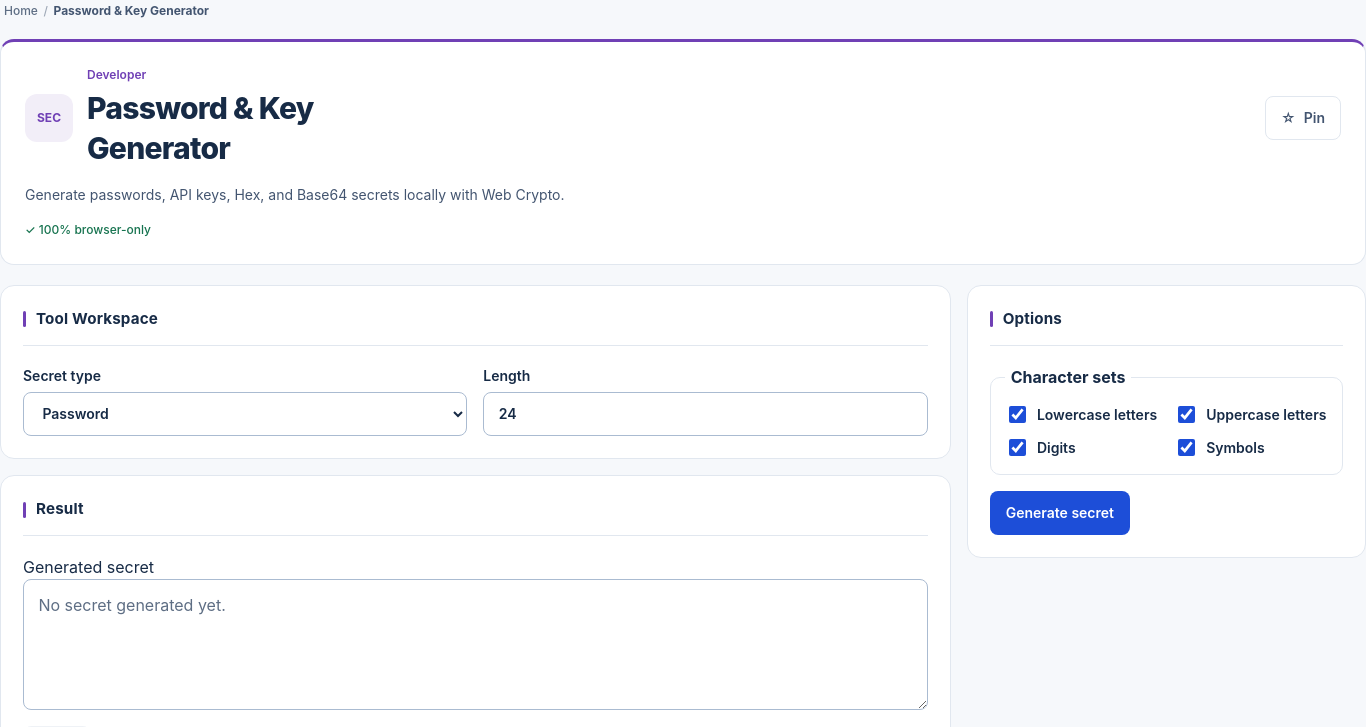
it: SecretGeneratorPage › normalizes password length when switching to the stricter API key mode
Step 1. Replace the text in the number field labelled "Length" with "8" → x=706, y=414, box [483,392,928,436]
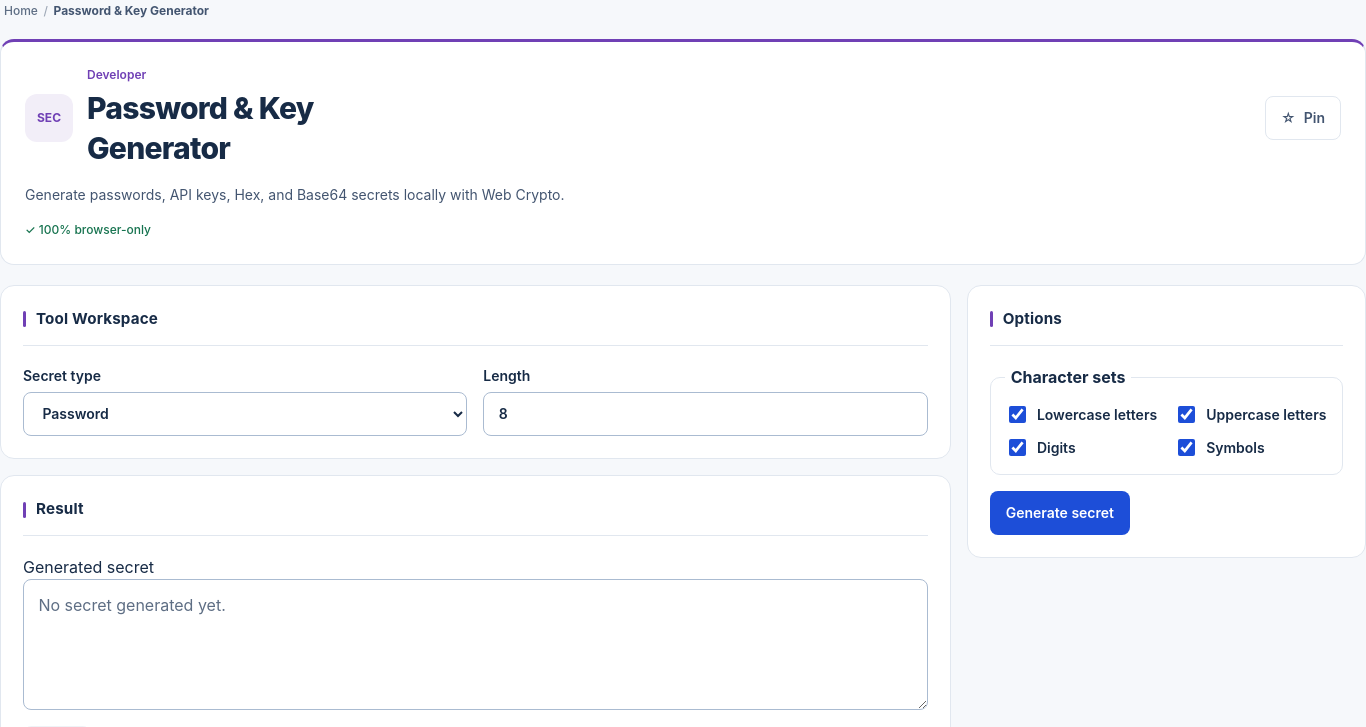
Step 2. Select "API key" in the dropdown labelled "Secret type" → x=245, y=414, box [23,392,467,436]
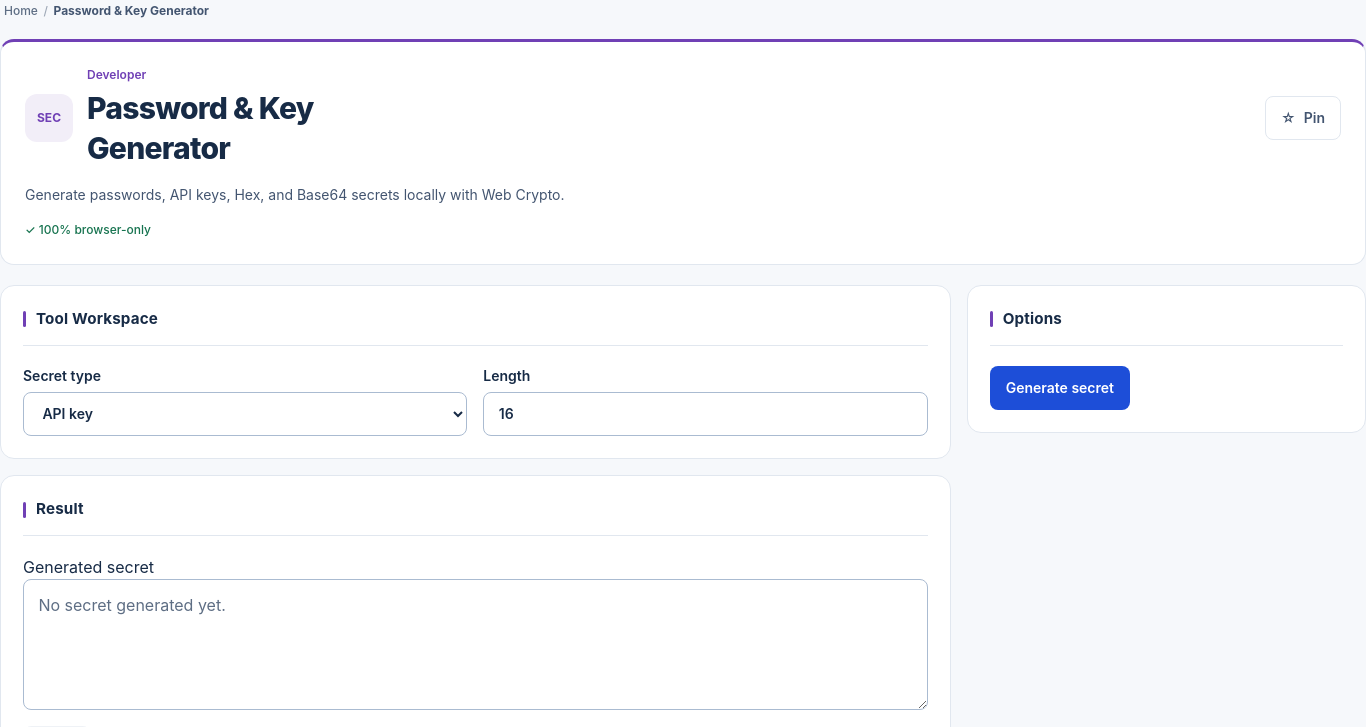
Expected: the number field labelled "Length" holds "16", [483,392,928,436]
